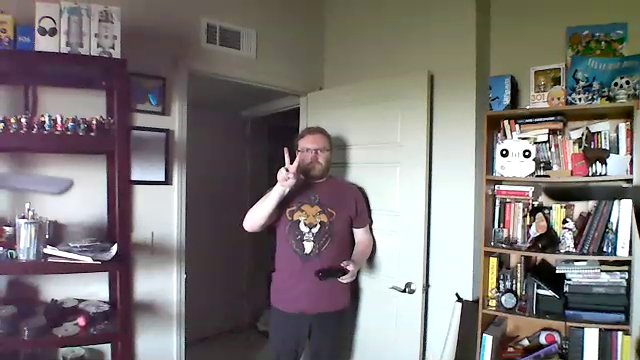peace: (272, 144, 304, 189)
